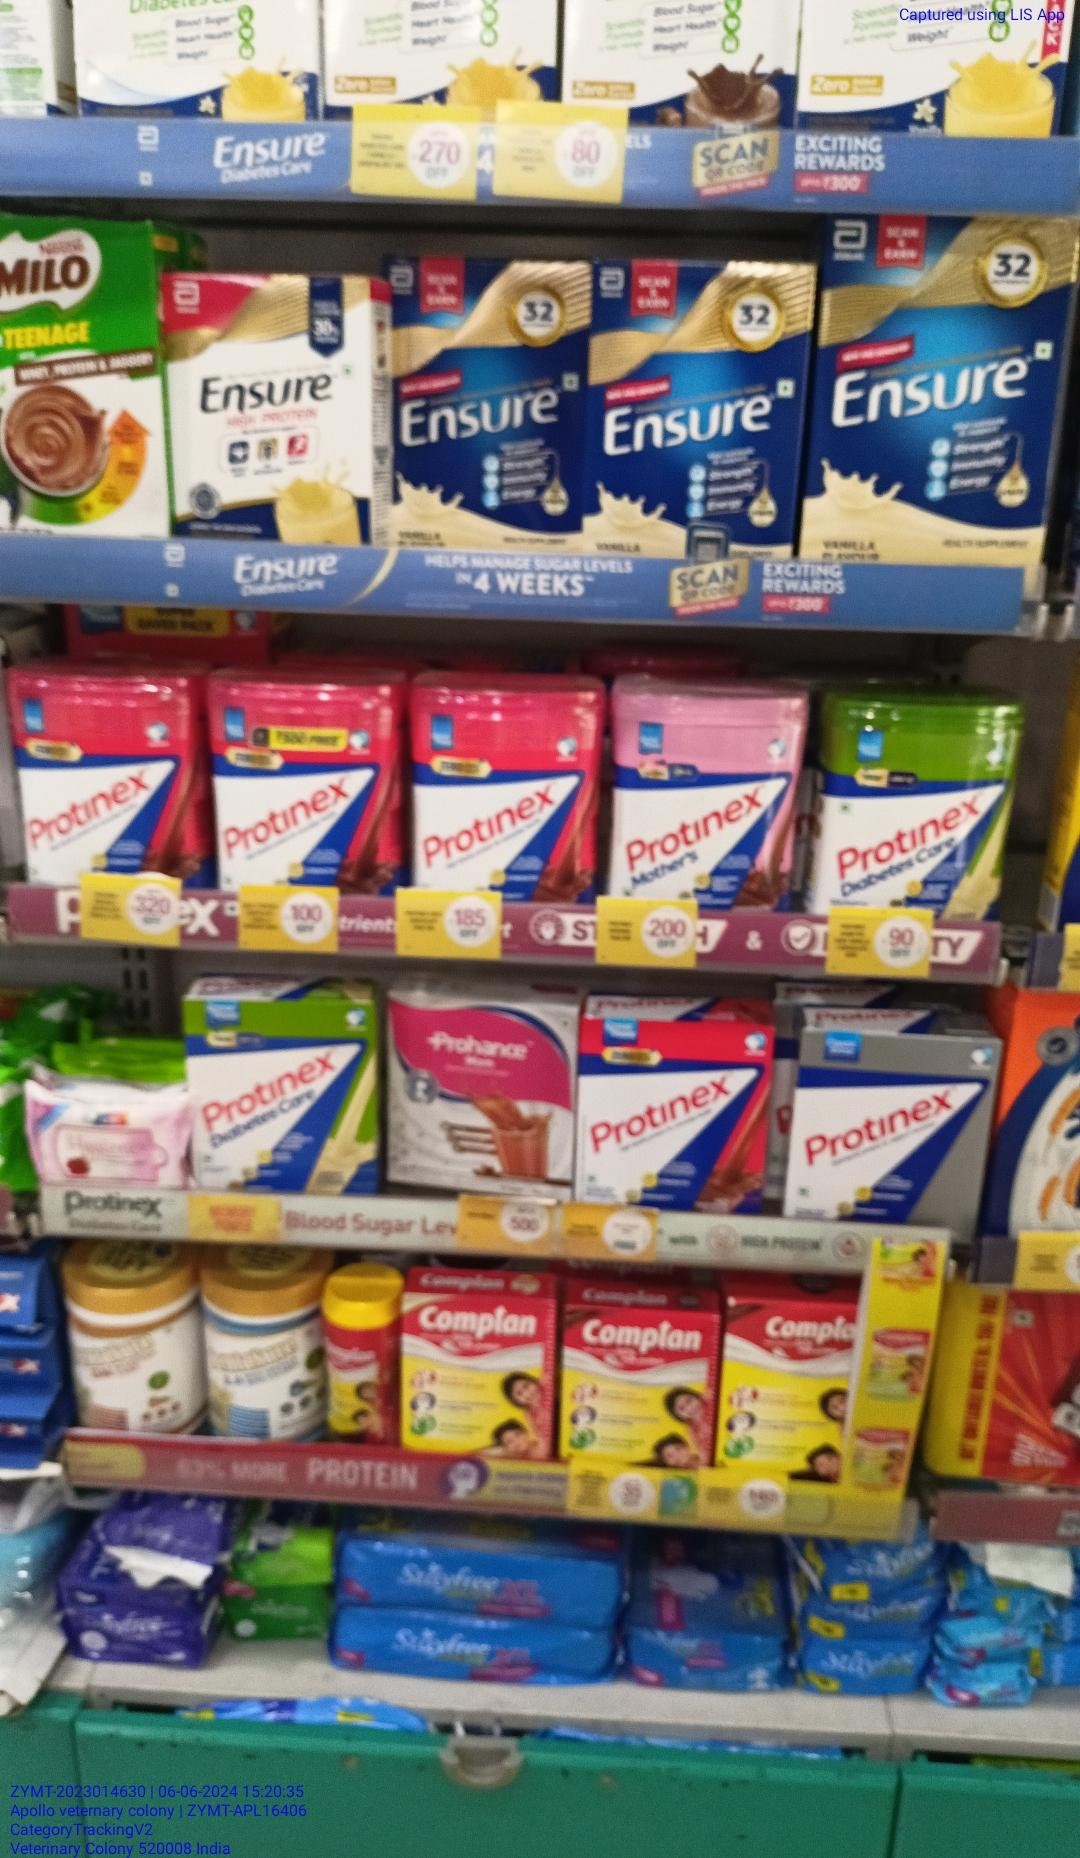COMPLAN_CHOCOLATE_200_GMS_JAR: (320, 1263, 390, 1440)
ENSURE_VANILLA_400_G_PACK: (593, 262, 806, 559), (388, 257, 585, 562)
PROTINEX_CHOCOLATE_400_G_JAR: (406, 676, 593, 899), (213, 679, 399, 891), (17, 676, 194, 882)
